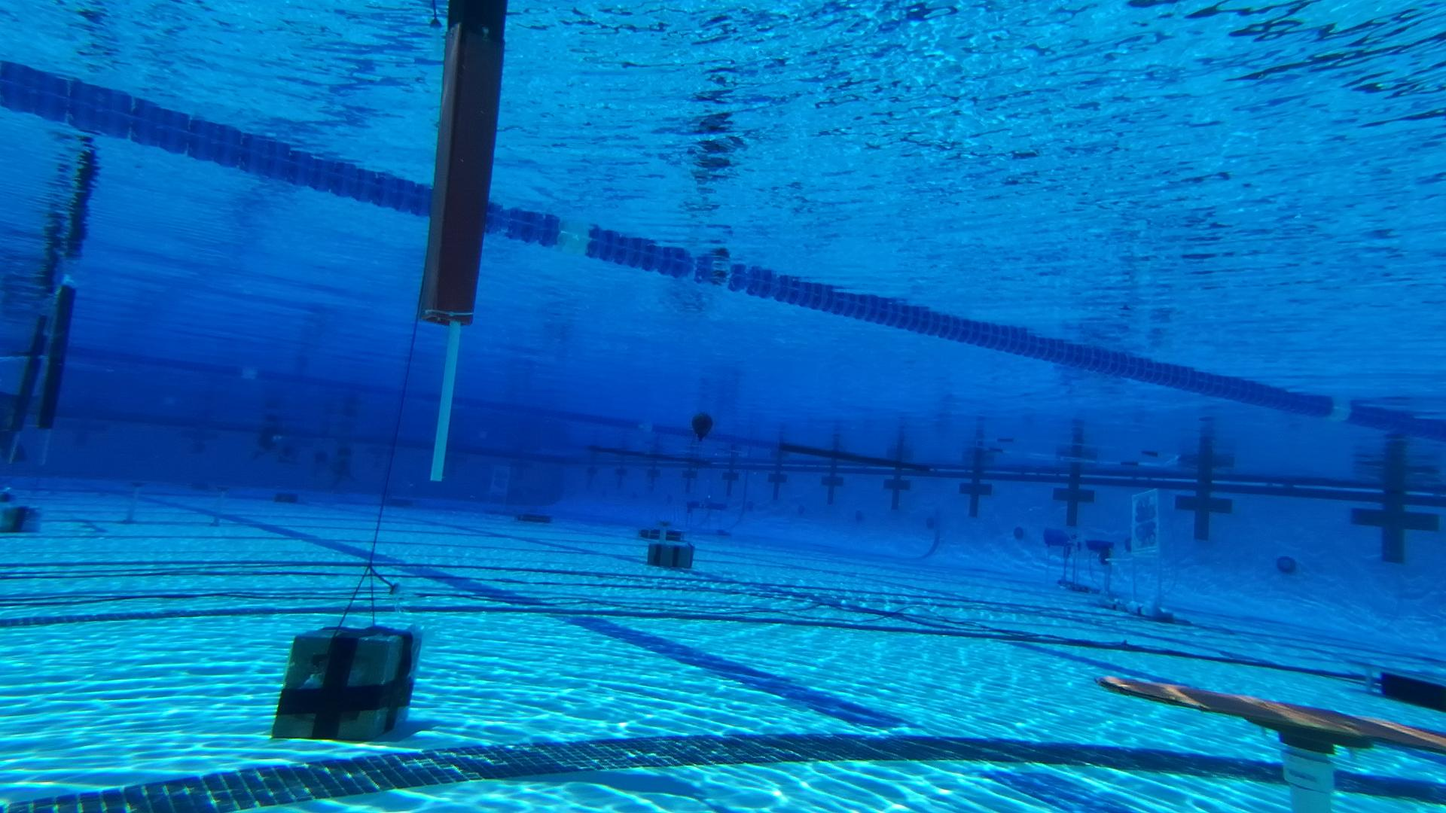buoy: (695, 414, 713, 439)
coral-box-side: (1049, 534, 1110, 595), (687, 501, 726, 533)
dropper-box-side: (640, 528, 685, 542), (518, 514, 553, 524)
path: (1095, 675, 1446, 813), (123, 476, 229, 533), (1146, 501, 1146, 501)
red octagon: (1134, 502, 1143, 522), (1145, 501, 1154, 519), (1136, 528, 1143, 540), (1148, 527, 1154, 540), (502, 474, 507, 479), (494, 481, 499, 486), (496, 472, 500, 478), (502, 483, 506, 489)
